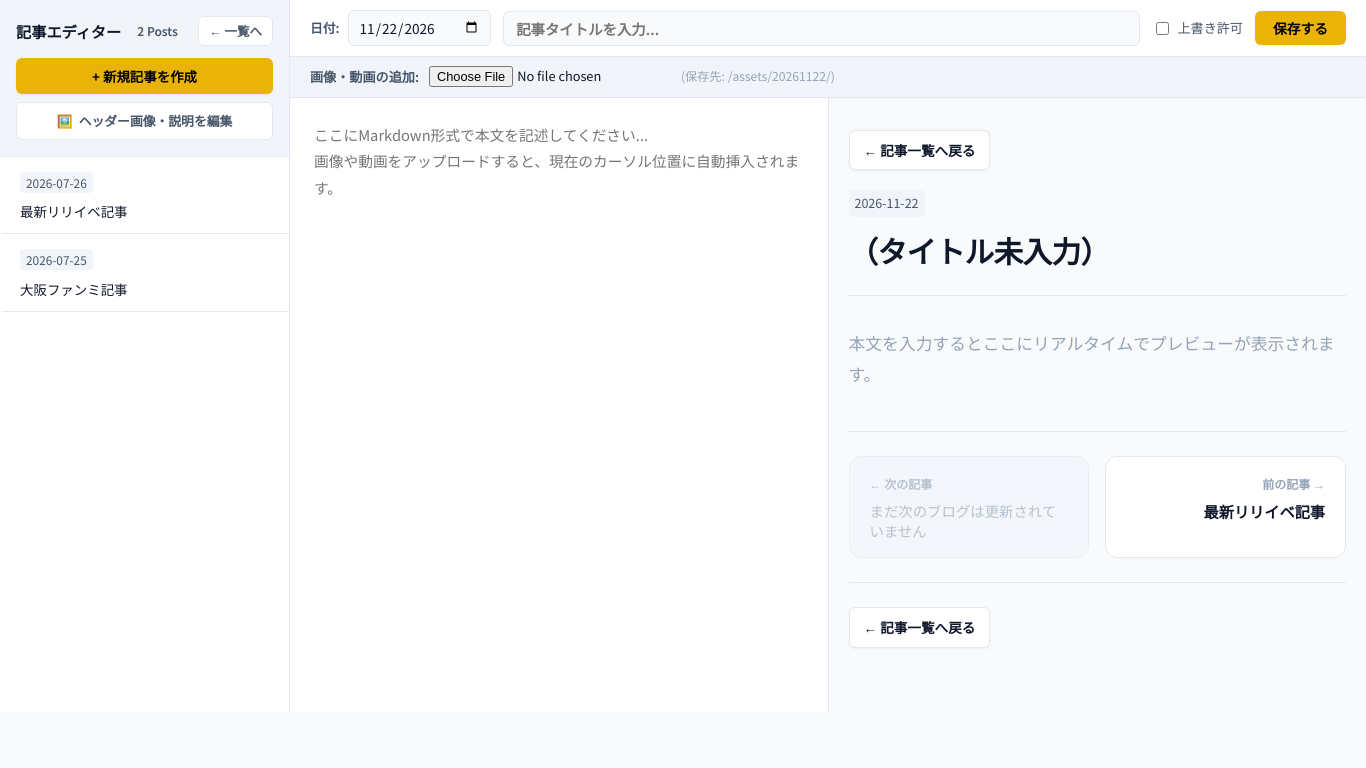
Test: 04_ローカル記事エディター (/editor/) テスト › 04_記事エディター_06 「保存する」ボタン押下で /api/posts/save が呼ばれ保存完了メッセージが表示されること
The width and height of the screenshot is (1366, 768).
expect the text "2 Posts" is shown: met, box [129,18,186,44]
Type "保存テストタイトル" into the field with placeholder "記事タイトルを入力..." at (822, 28), box [503,10,1140,46]
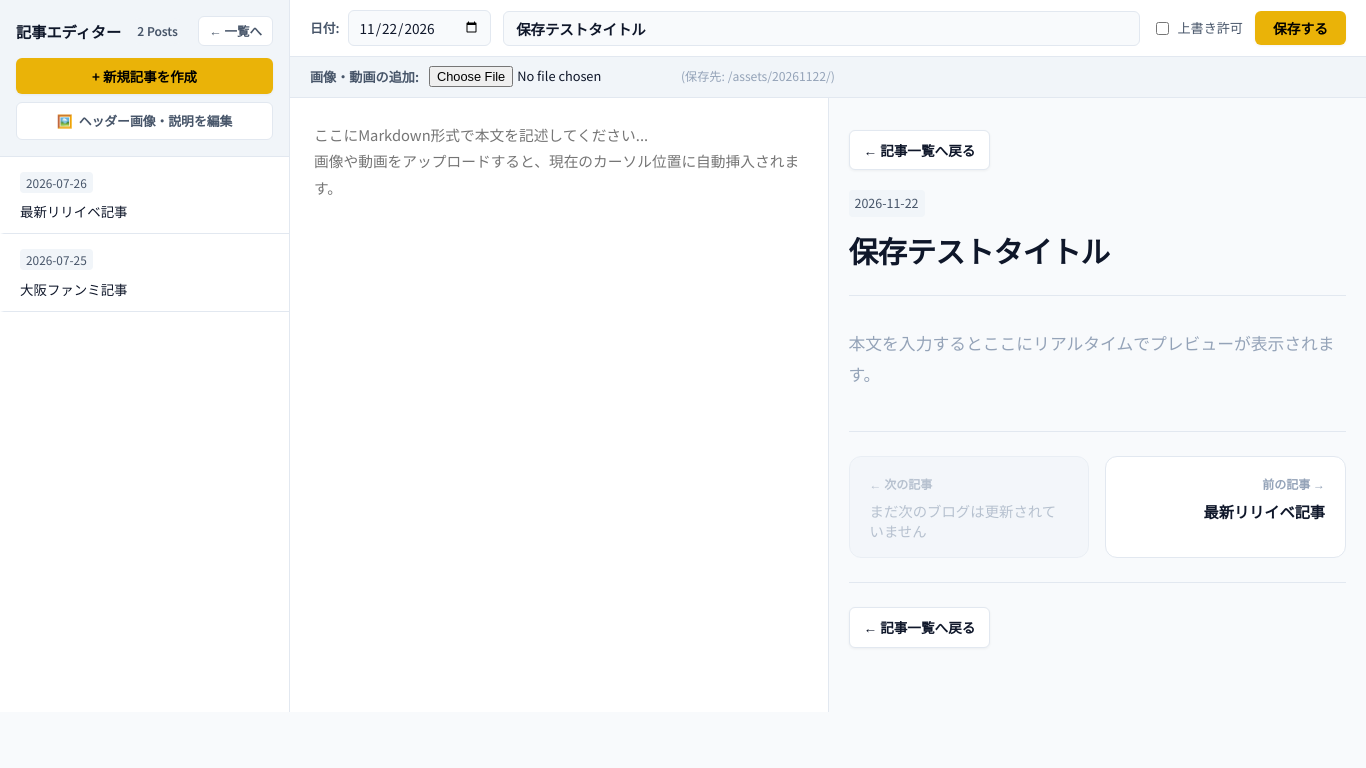
Click the button "保存する" at (1300, 28), box [1255,11,1346,45]
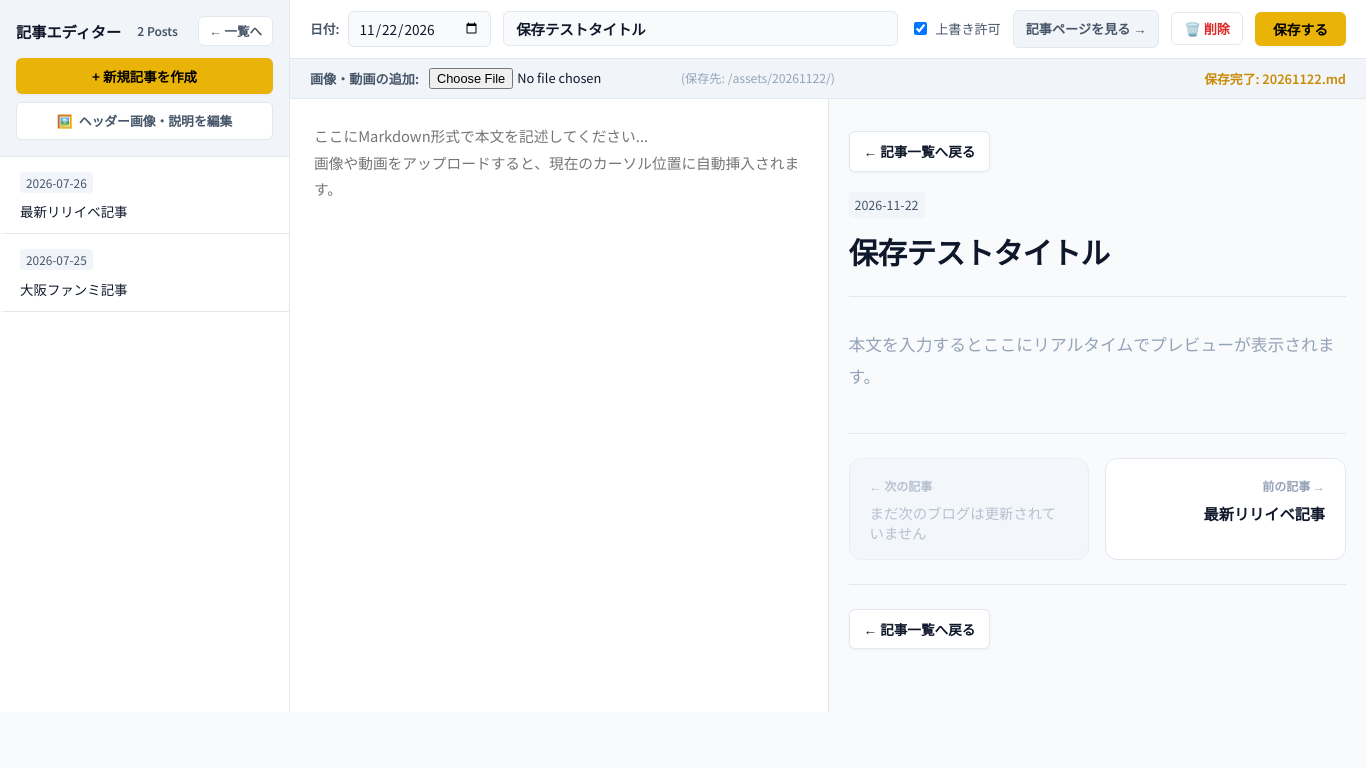
expect the text "保存完了: 20261122.md" is shown: met, box [1204,67,1346,90]
